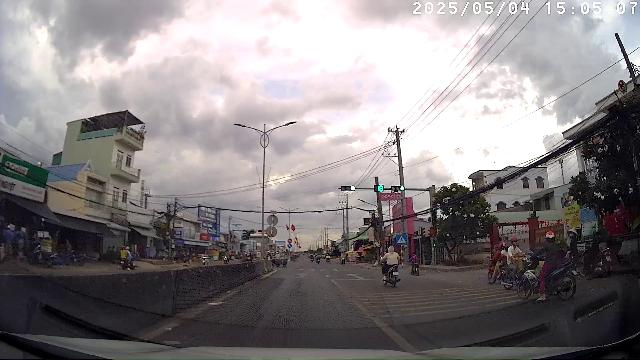423a-duong-nguoi-di-bo-sang-ngang-1: (396, 234, 408, 244)
